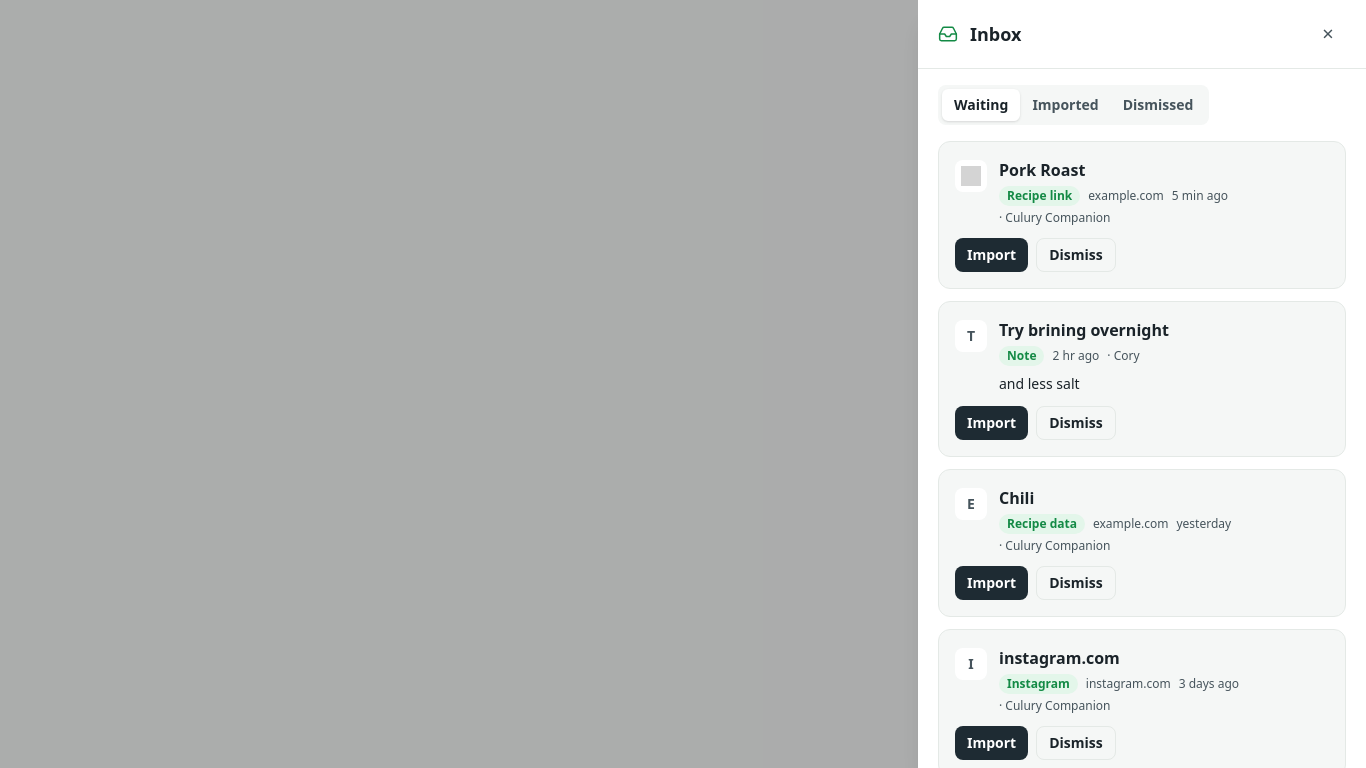
Test: the inbox drawer › Dismiss takes it off the list; Dismissed shows it, to bring back or delete for good
The image size is (1366, 768).
Later steps or results of the test are not shown.
Step 1. Click the button "Dismiss" below "Pork Roast" → x=1076, y=255, box [1036,238,1116,272]
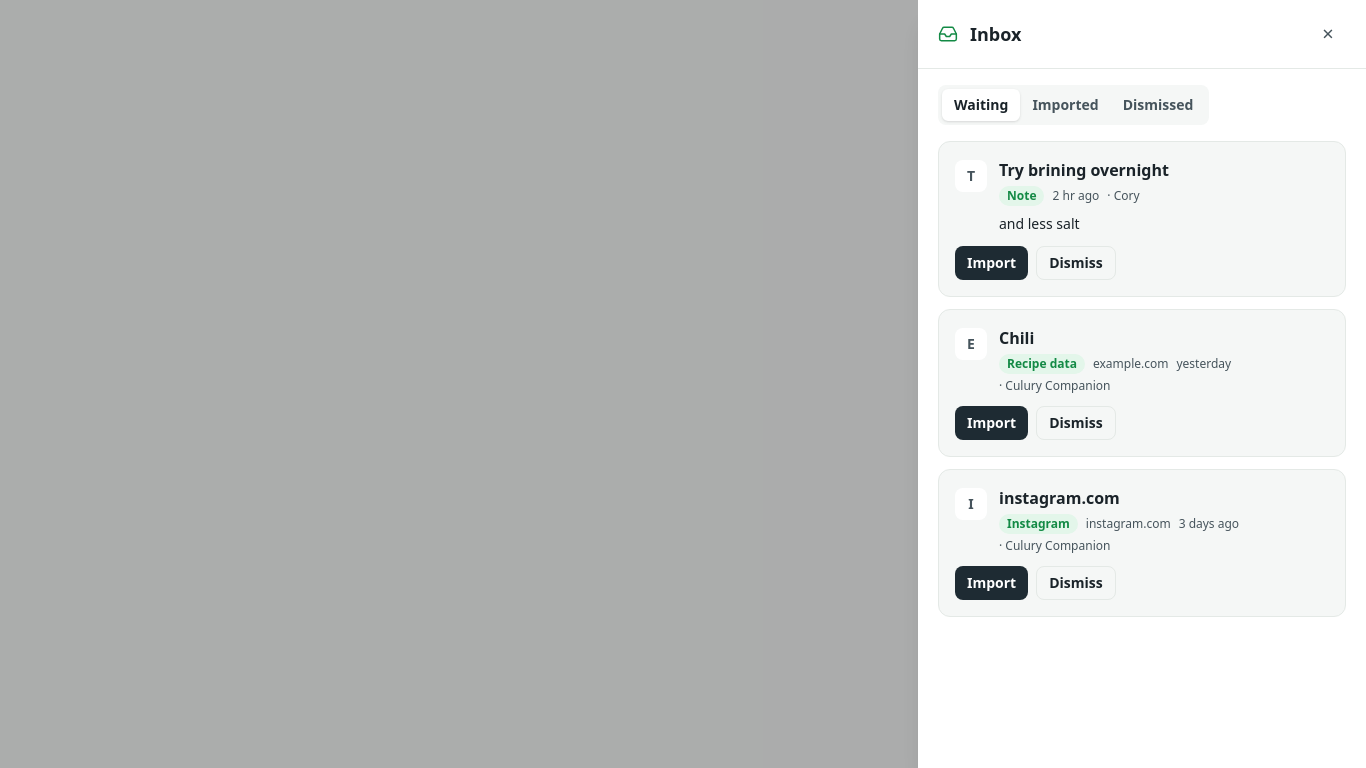
Check: the number of list items is 3, box [938,141,1346,297]; [938,309,1346,457]; [938,469,1346,617]
